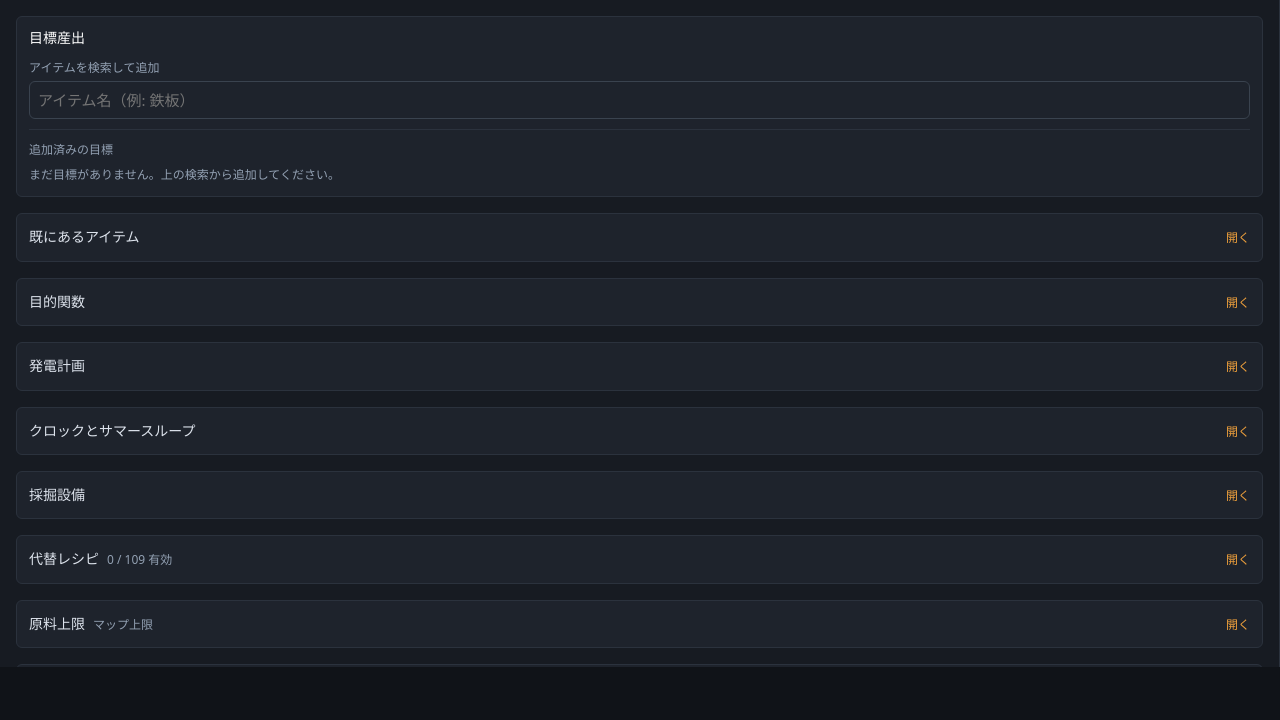
サイドバーのレスポンシブ折りたたみ › 狭幅でユーザーが開いたパネルはviewportが変化して戻っても開いたままにする
This screenshot has width=1280, height=720.
What coordinates should you click on to do the following:
click the button "目的関数 開く"
I would click on:
 (57, 301)
Its box is [29,291,1250,313].
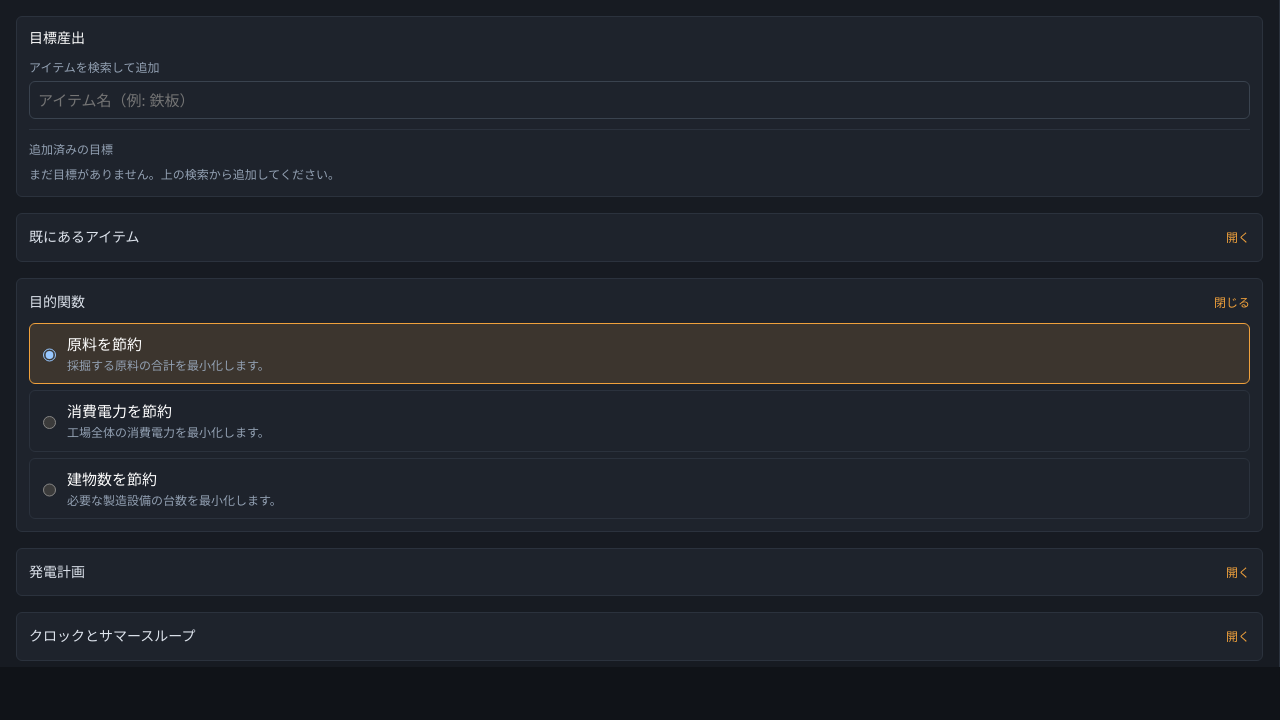
Result: the button "目的関数 閉じる" is expanded at [29,291,1250,313]
